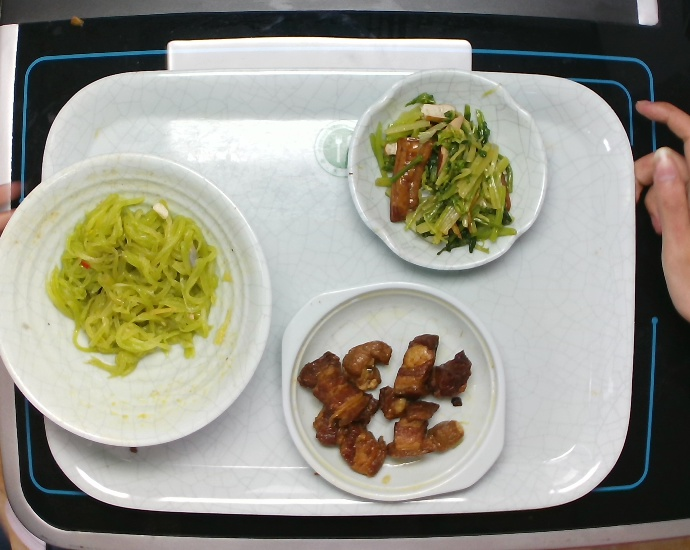JYsf-Ao_Yuan_Wan: (344, 68, 549, 274)
JYsf-Shuang_Er_Pan: (275, 277, 510, 499)
JYsf-Xiao_Tang_Wan: (1, 150, 268, 453)
